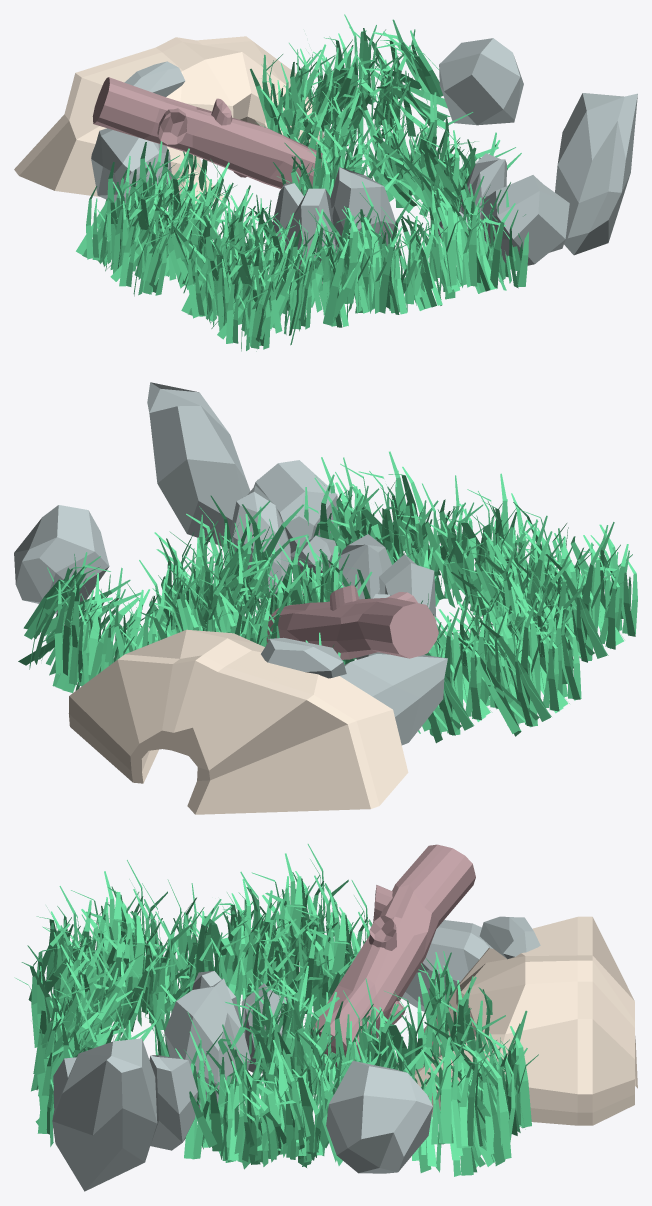
Rendered from 042820map1ShadowCasters.gltf.
3 renders of one model, top to bottom at view 1: azimuth 30°, elevation 25°; view 2: azimuth 150°, elevation 25°; view 3: azimuth 270°, elevation 25°, orthographic. The views are drawn at different scales.
Parts seen in each view (by area): view 1: Cube.005, Cube.003, Cube.022, Cube.021, Cube.009, Cube.004, Cube.001, Cube, Cube.010, Cube.008, Cube.002, Plane.457 (+5 smaller); view 2: Cube.005, Cube.022, Cube.003, Cube.021, Cube.004, Cube.009, Cube.010, Cube.008, Cube.001, Cube, Cube.011, Plane.947 (+1 smaller); view 3: Cube.005, Cube.003, Cube.022, Cube.021, Cube.001, Cube.010, Cube.004, Cube.008, Cube.002, Plane.571, Plane.790, Plane.741 (+14 smaller).
Boxes of the visible parts, left/top/right/bottom form: Cube.005: left=14, top=36, right=323, bottom=203; Cube.003: left=92, top=77, right=327, bottom=193; Cube.022: left=555, top=93, right=637, bottom=255; Cube.021: left=439, top=38, right=523, bottom=125; Cube.009: left=481, top=175, right=569, bottom=265; Cube.004: left=91, top=128, right=171, bottom=203; Cube.001: left=330, top=167, right=395, bottom=250; Cube: left=284, top=188, right=336, bottom=270; Cube.010: left=460, top=153, right=506, bottom=218; Cube.008: left=124, top=61, right=185, bottom=96; Cube.002: left=272, top=183, right=303, bottom=239; Plane.457: left=437, top=188, right=456, bottom=286; Cube.005: left=68, top=629, right=408, bottom=814; Cube.022: left=147, top=382, right=250, bottom=548; Cube.003: left=266, top=585, right=438, bottom=659; Cube.021: left=14, top=505, right=109, bottom=614; Cube.004: left=340, top=653, right=447, bottom=745; Cube.009: left=254, top=460, right=337, bottom=553; Cube.010: left=230, top=485, right=290, bottom=597; Cube.008: left=261, top=637, right=346, bottom=678; Cube.001: left=338, top=534, right=391, bottom=599; Cube: left=379, top=554, right=436, bottom=621; Cube.011: left=290, top=535, right=338, bottom=580; Plane.947: left=479, top=620, right=550, bottom=721; Cube.005: left=411, top=916, right=637, bottom=1125; Cube.003: left=311, top=844, right=475, bottom=1067; Cube.022: left=52, top=1038, right=157, bottom=1191; Cube.021: left=326, top=1061, right=432, bottom=1173; Cube.001: left=164, top=978, right=250, bottom=1108; Cube.010: left=149, top=1055, right=197, bottom=1150; Cube.004: left=402, top=920, right=488, bottom=1011; Cube.008: left=479, top=916, right=540, bottom=959; Cube.002: left=241, top=983, right=288, bottom=1073; Plane.571: left=439, top=1037, right=451, bottom=1143; Plane.790: left=510, top=1026, right=531, bottom=1127; Plane.741: left=485, top=1058, right=511, bottom=1159.
Bounding box in the file's own units: 82.28 × 27.21 × 83.2.
